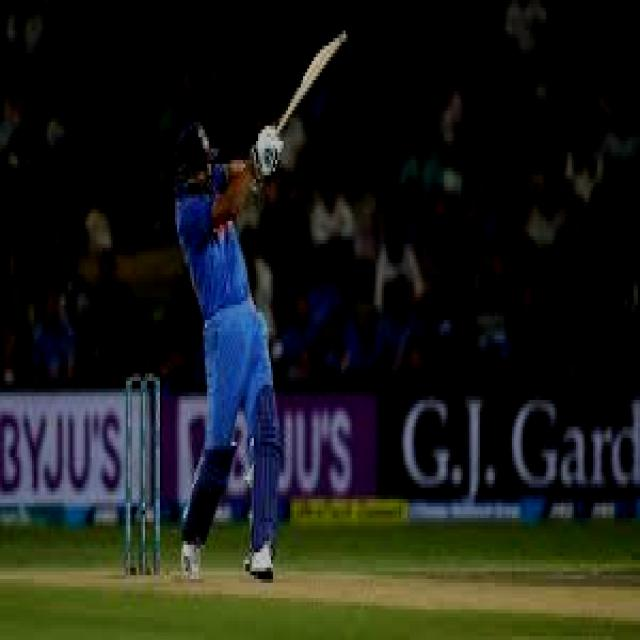toe: (326, 21, 353, 63)
